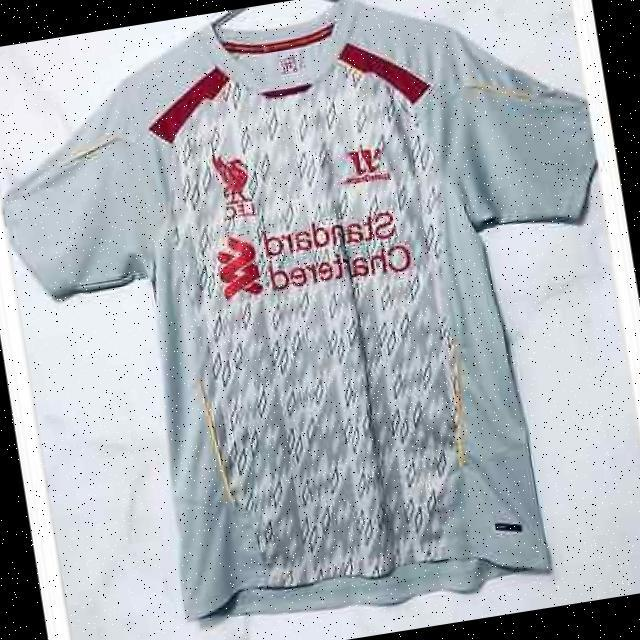Standard Chartered: (212, 203, 417, 302)
